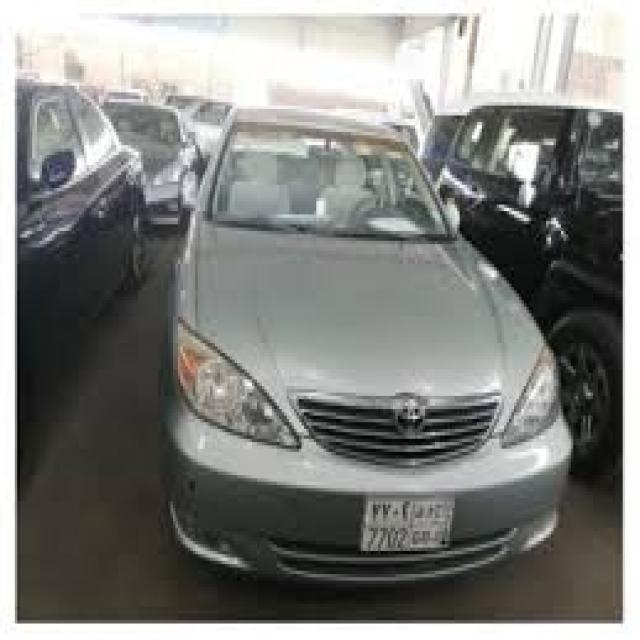license_plate: (358, 495, 457, 554)
